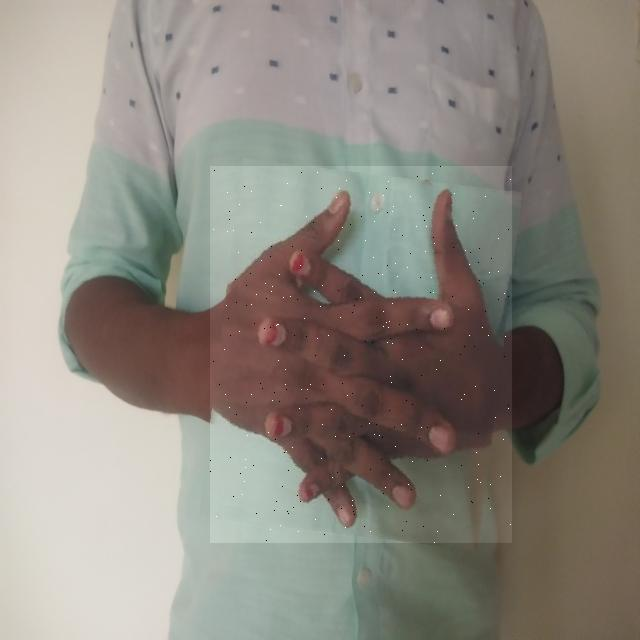W: (210, 166, 512, 543)
